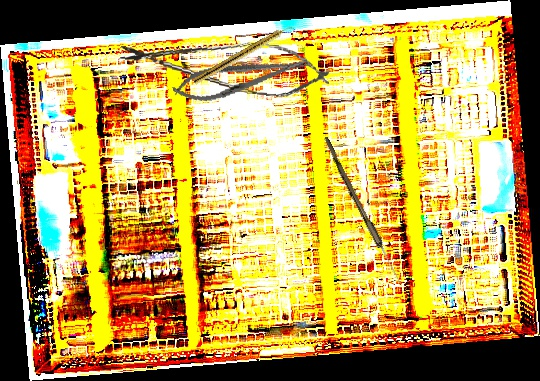Handpiece: (192, 22, 295, 87)
Micro Scissor: (117, 29, 333, 102)
Needle Holder: (169, 47, 312, 109)
Surgical Spoon: (320, 136, 405, 286)
